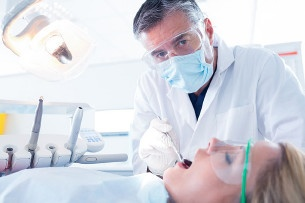Mask: (150, 33, 206, 89)
